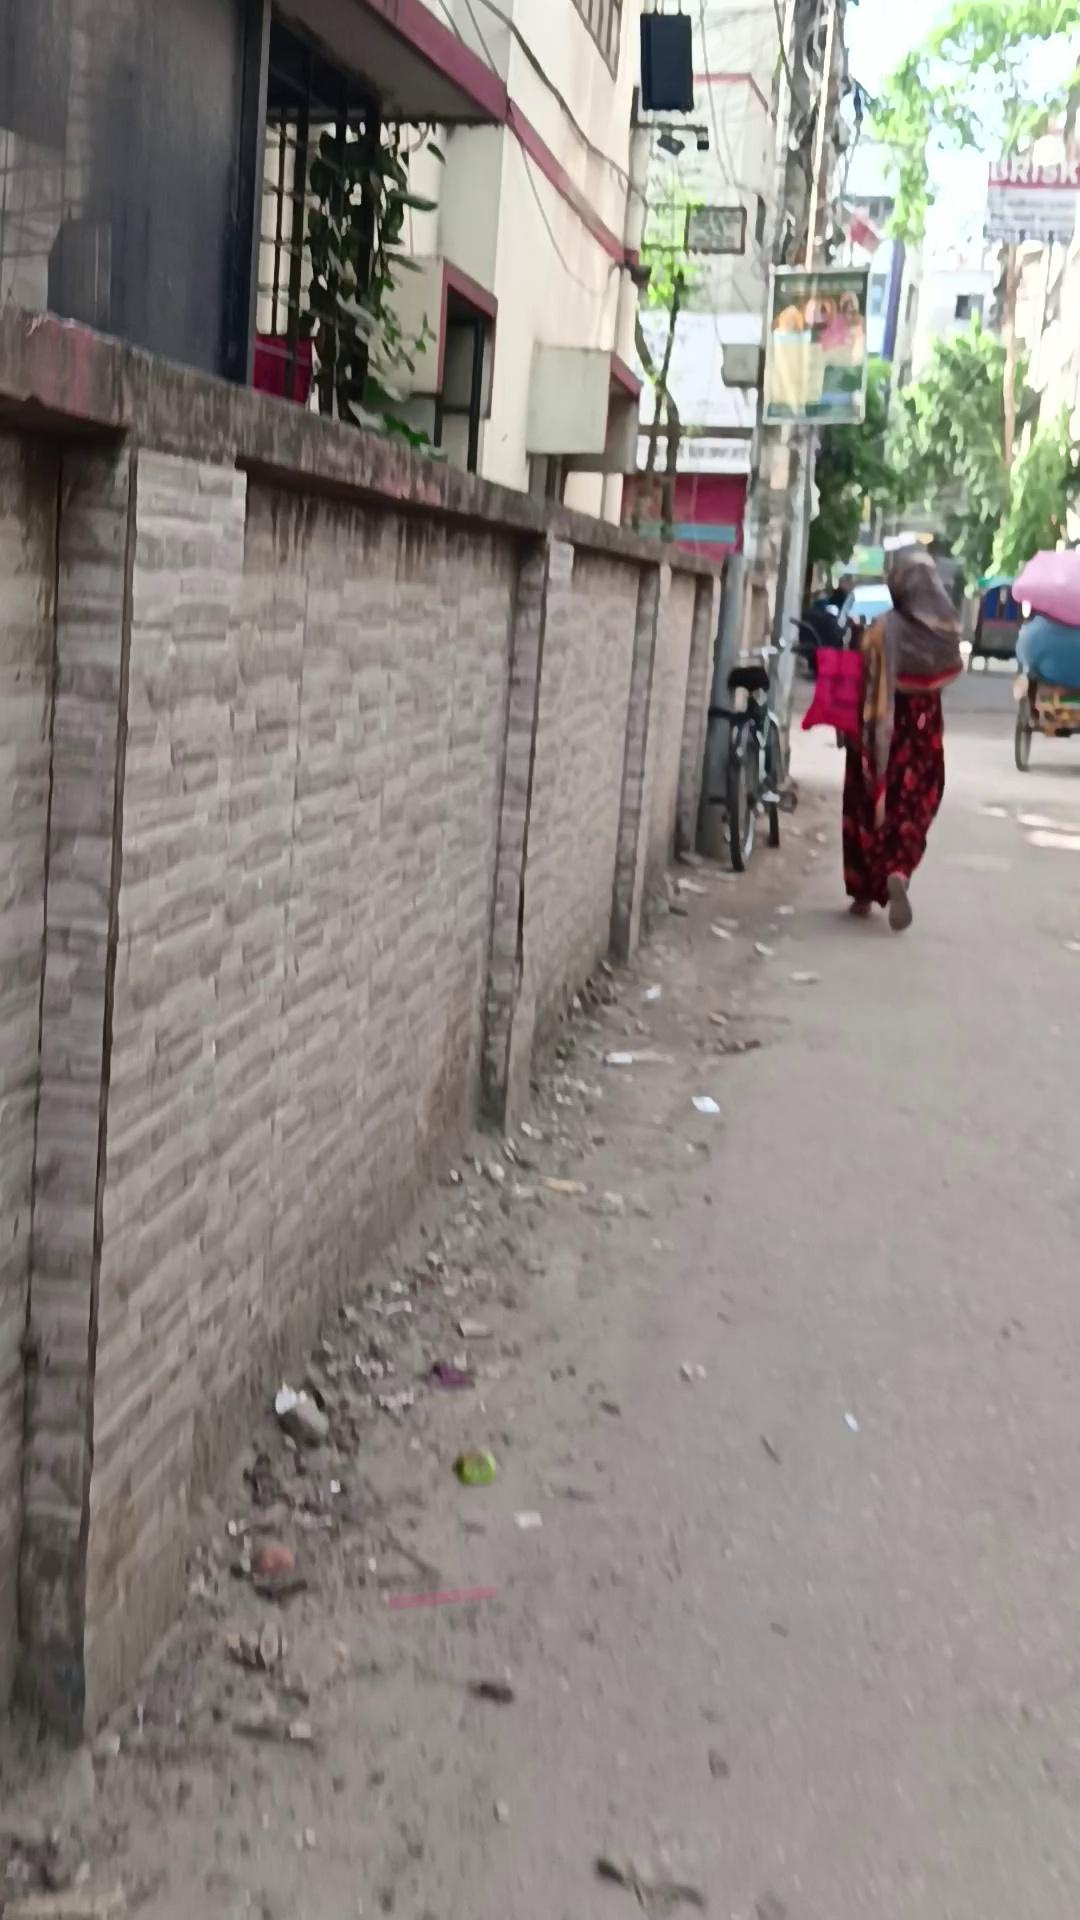Muddy road: (843, 542, 964, 930)
Obstacle: (691, 0, 855, 860)
Pothole: (1011, 553, 1080, 771)
Stuck-water: (760, 265, 870, 427)
Tree: (0, 302, 731, 1840)
